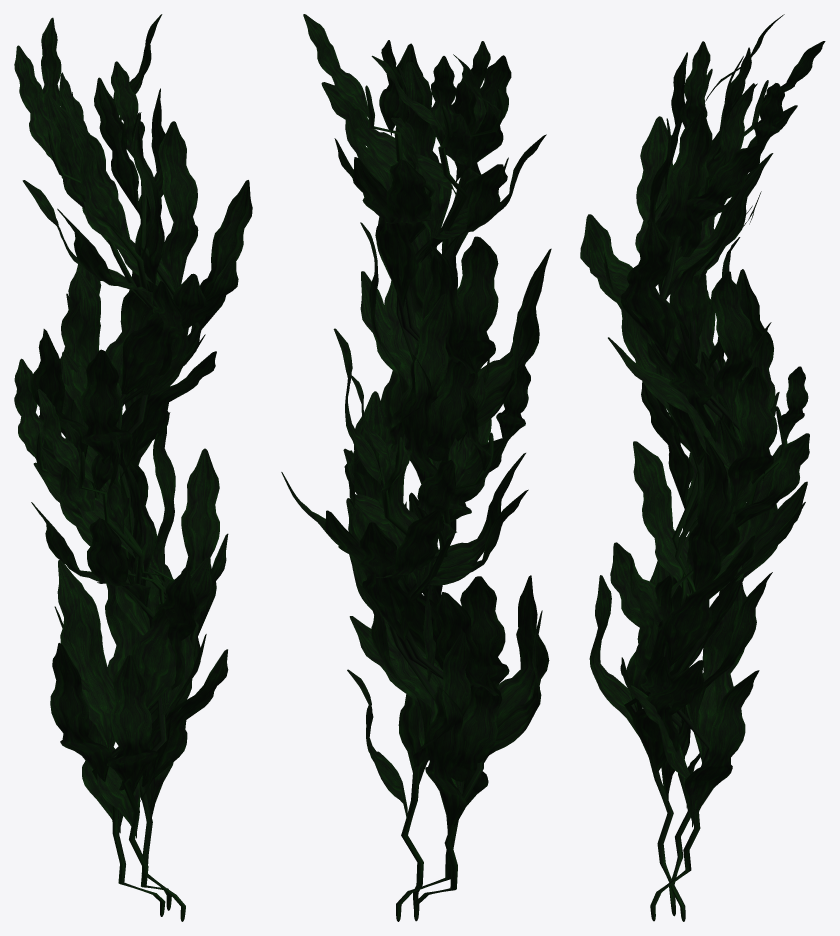
File: new-seaweed.glb
3 renders of one model, left to right at view 1: azimuth 30°, elevation 25°; view 2: azimuth 150°, elevation 25°; view 3: azimuth 270°, elevation 25°, orthographic. The views are drawn at different scales.
Parts seen in each view (by area): view 1: TallSeaweed; view 2: TallSeaweed; view 3: TallSeaweed.
Part boxes in pixels (bbox=[...]): TallSeaweed: bbox=[14, 14, 252, 921]; TallSeaweed: bbox=[281, 14, 551, 921]; TallSeaweed: bbox=[580, 14, 825, 921].
Size of the model in its own units: 0.4965 by 2 by 0.5176.
Materials: 1 (1 with a texture image).
